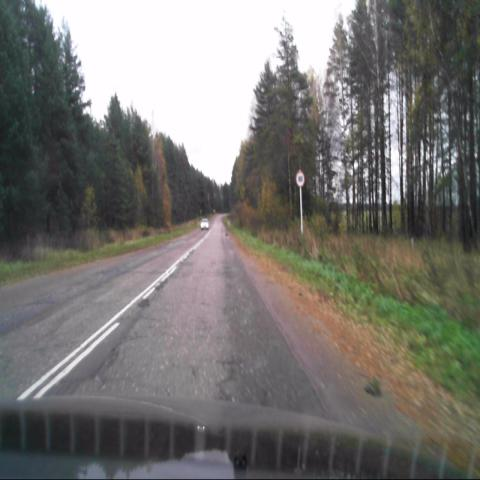3_24: (295, 170, 305, 187)
